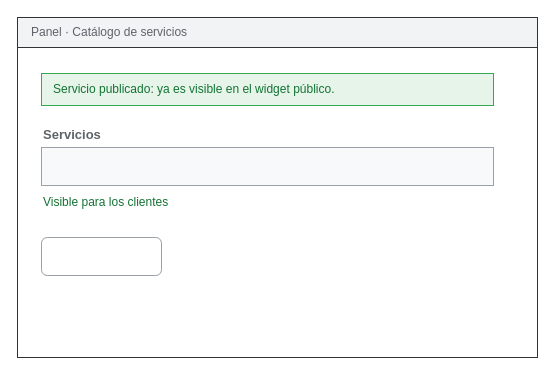
This 555x375 diagram has some shape labels left out. The centre of each missing label's shape, as x and y in pixels:
"Corte de pelo · 30 min · 12 € — Empleado X" belongs at (267,166).
"Editar" belongs at (101,256).
